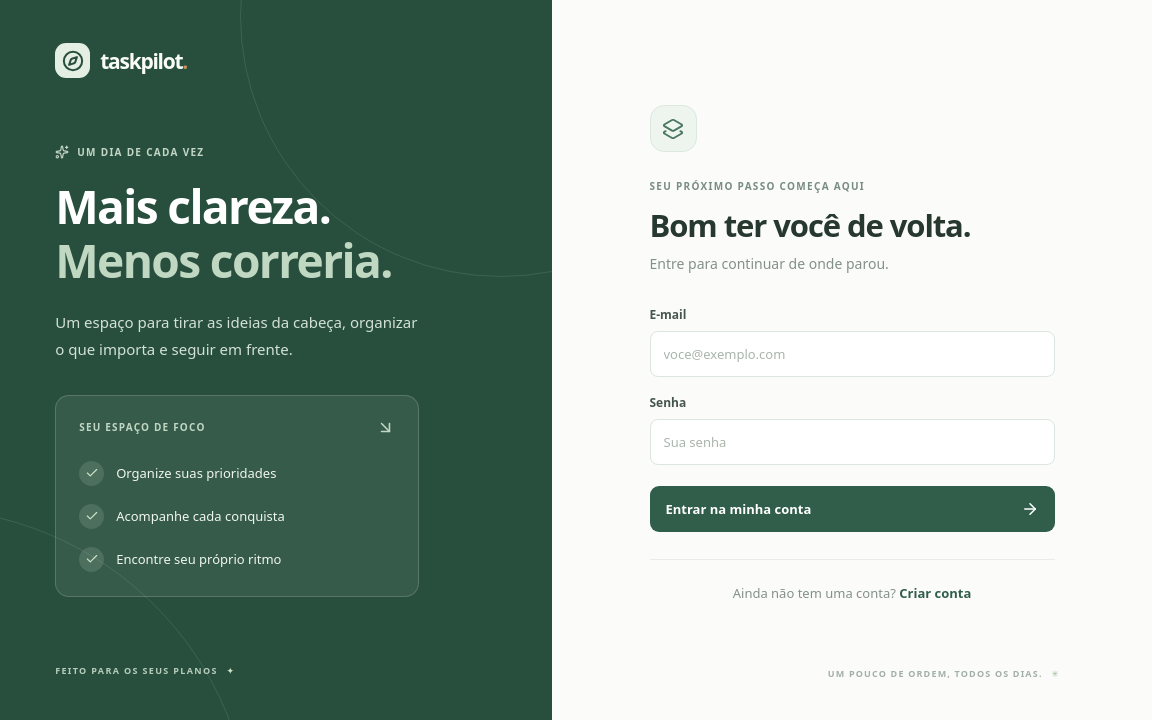
TaskPilot › retorna ao login quando a sessão é rejeitada pela API
The width and height of the screenshot is (1152, 720).
Type "person@example.test" into the field labelled "E-mail" at (852, 354), box [650, 331, 1054, 377]
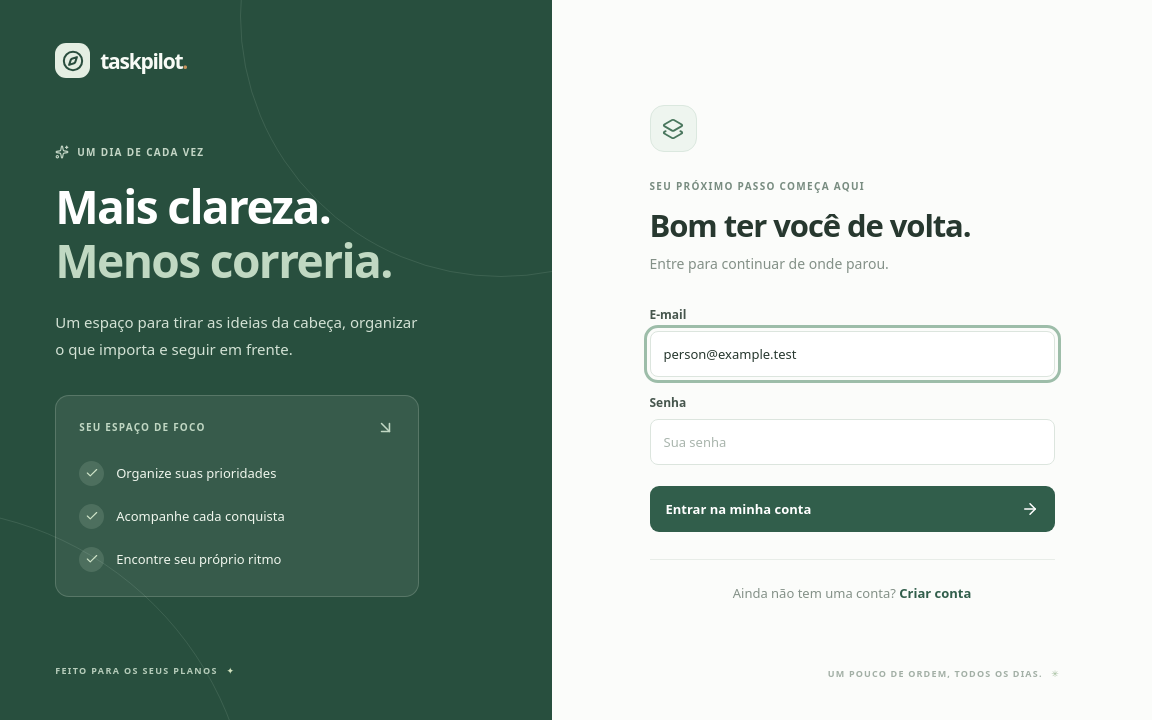
Type "TestPassword_12345" into the password field labelled "Senha" at (852, 442), box [650, 419, 1054, 465]
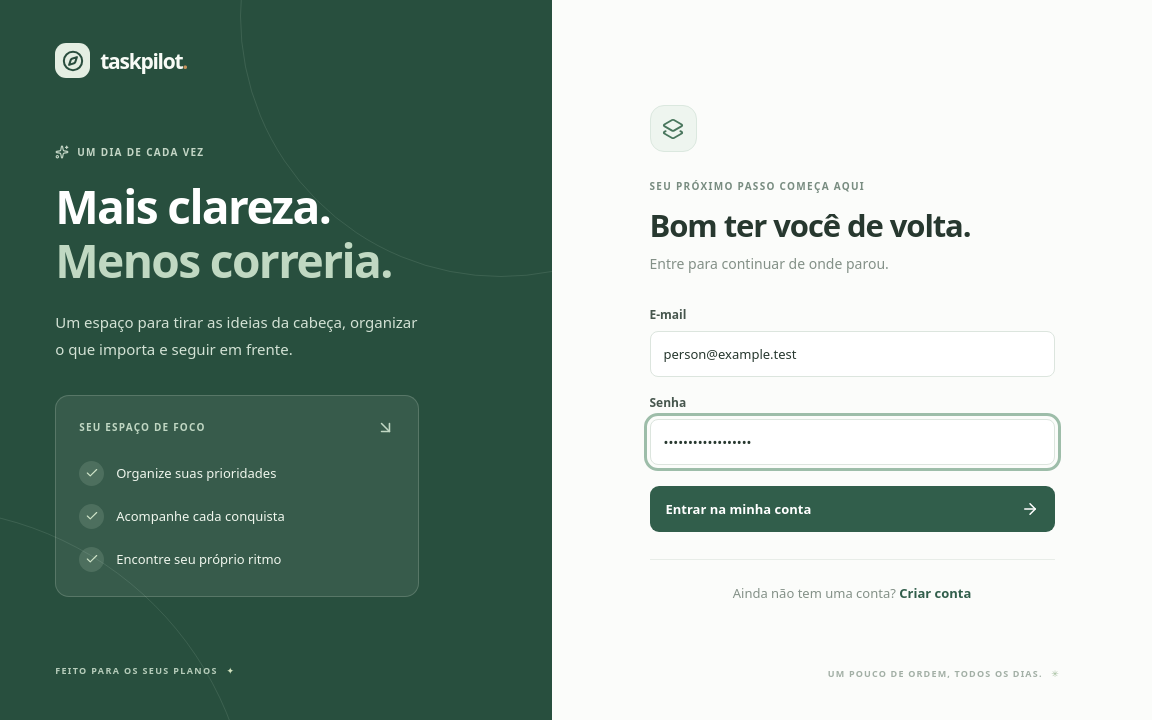
Click the button "Entrar na minha conta" at (738, 509), box [650, 486, 1054, 532]
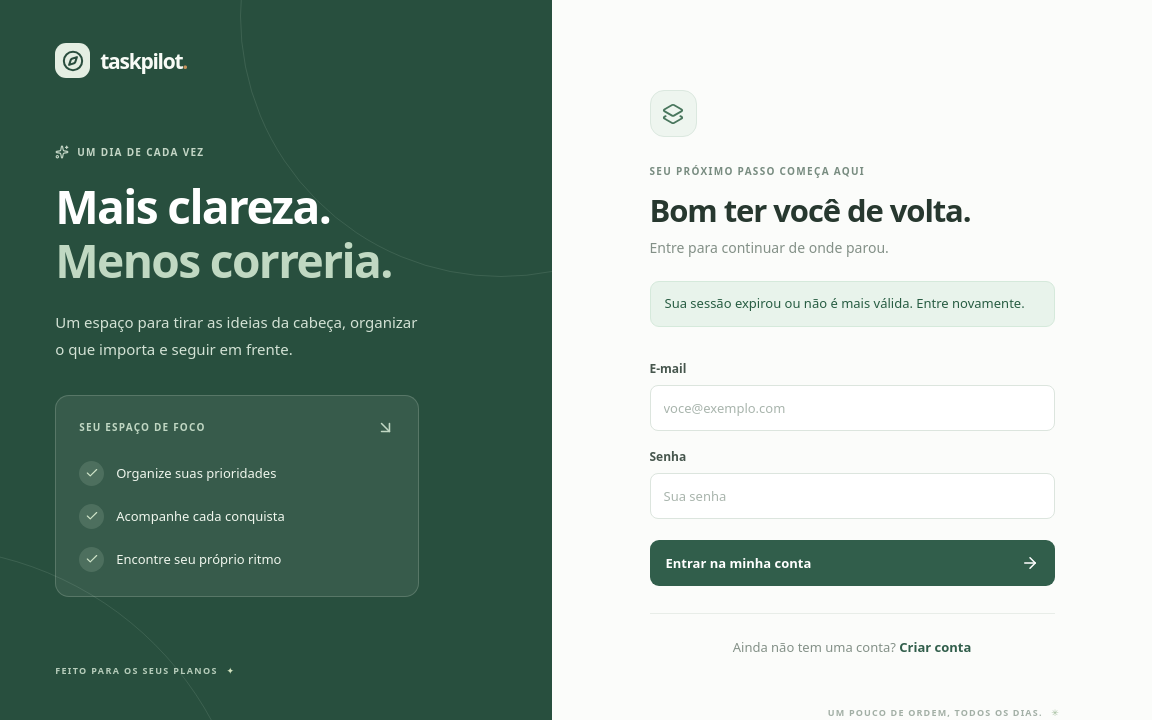
Check: the button "Entrar na minha conta" is shown, box [650, 540, 1054, 586]
Check: the text "Sua sessão expirou ou não é mais válida. Entre novamente." is shown, box [650, 281, 1054, 327]
